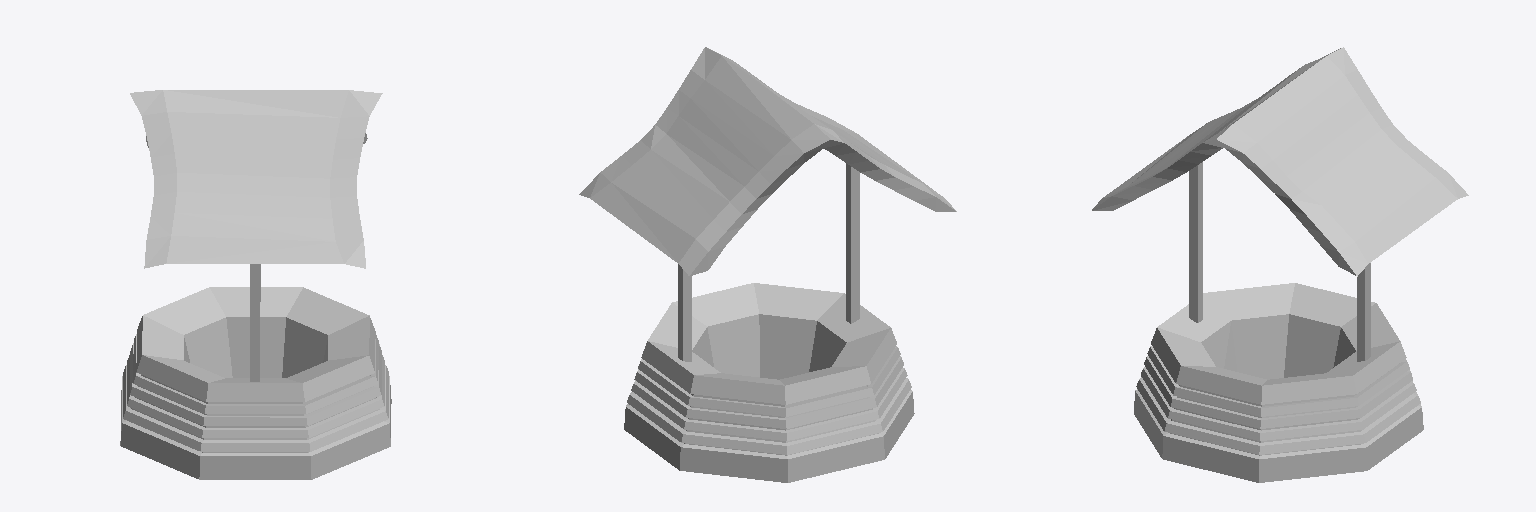
Rendered from Wishing_well.OBJ.
3 views of the same model, side by side, from view 1: azimuth 30°, elevation 25°; view 2: azimuth 150°, elevation 25°; view 3: azimuth 270°, elevation 25° (orthographic).
Parts seen in each view (by area): view 1: Group2; view 2: Group2; view 3: Group2.
Part boxes in pixels (x1,y1,x2,y2): Group2: (120, 90, 391, 479); Group2: (579, 47, 956, 482); Group2: (1092, 47, 1468, 482).
Bounding box in the file's own units: 10.85 × 11.45 × 11.82.